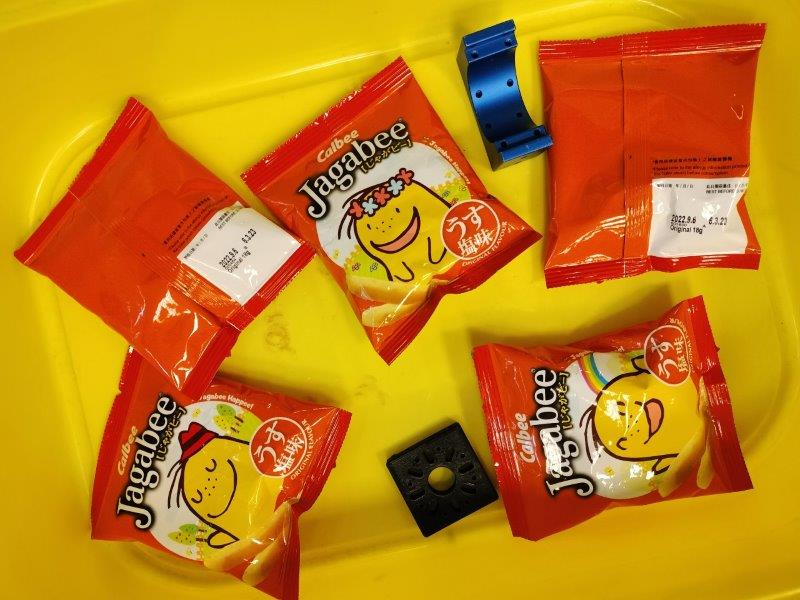Jagabee: (239, 57, 544, 367), (15, 98, 319, 395), (470, 295, 754, 541), (91, 341, 351, 598), (540, 25, 766, 290)
